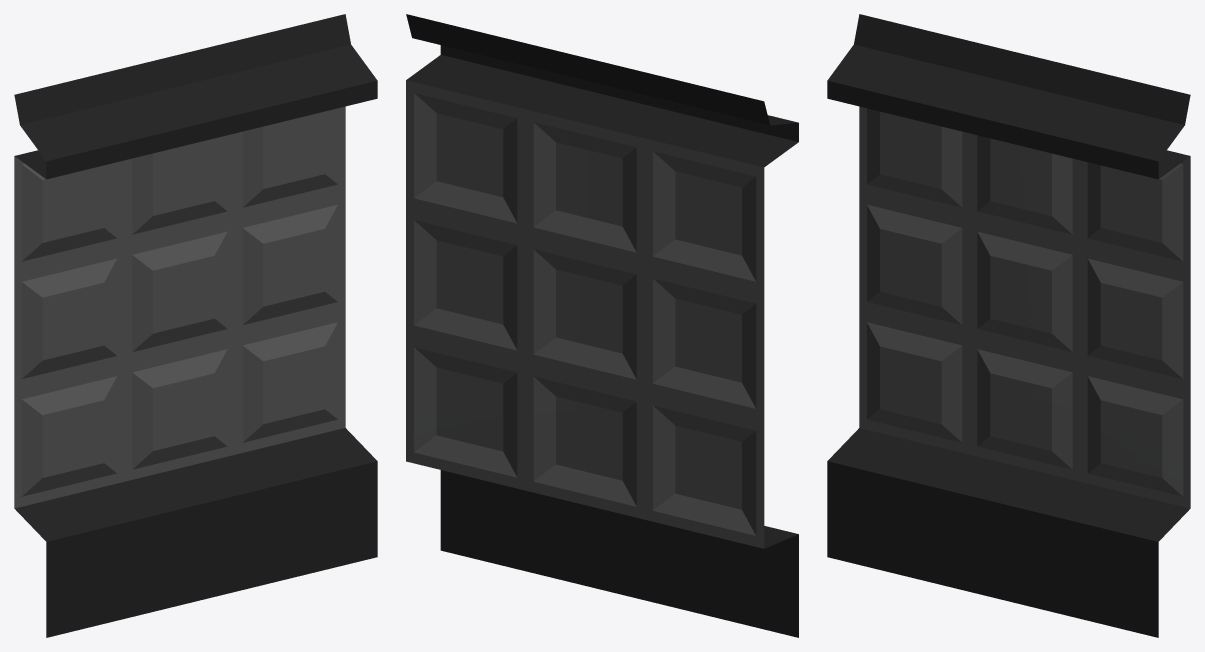
The model's file is Wall_bumb_C.fbx.
The picture shows the model from 3 angles, left to right: view 1: azimuth 30°, elevation 25°; view 2: azimuth 150°, elevation 25°; view 3: azimuth 330°, elevation 25°; orthographic projection. The views are drawn at different scales.
Visible parts, largest first — view 1: Wall_bumb_C; view 2: Wall_bumb_C; view 3: Wall_bumb_C.
Boxes of the visible parts, bbox=[...] form: Wall_bumb_C: bbox=[14, 14, 377, 637]; Wall_bumb_C: bbox=[406, 14, 798, 637]; Wall_bumb_C: bbox=[827, 14, 1190, 637].
Bounding box in the file's own units: 200 × 300 × 33.54.
